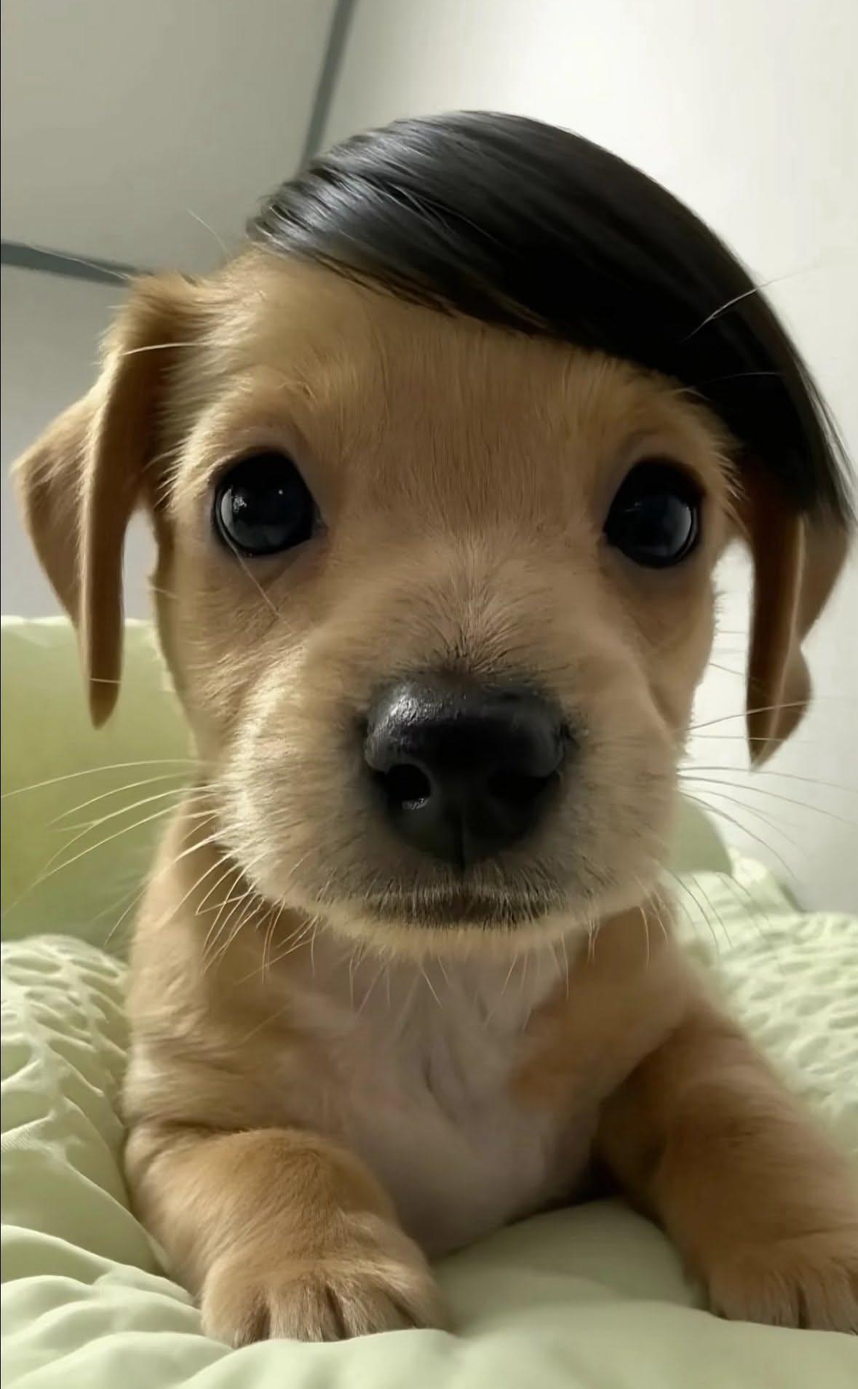puppy-dog: (10, 243, 858, 1350)
